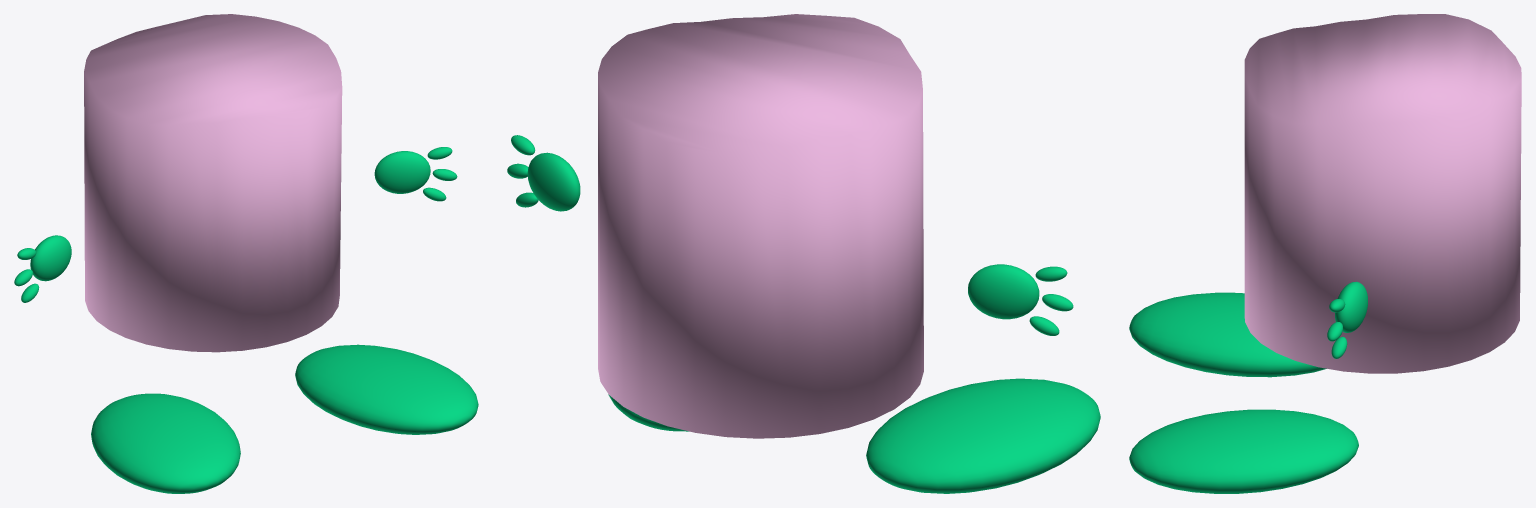
The model's file is spielerneu.fbx.
3 renders of one model, left to right at view 1: azimuth 30°, elevation 25°; view 2: azimuth 150°, elevation 25°; view 3: azimuth 270°, elevation 25°, orthographic. The views are drawn at different scales.
Parts seen in each view (by area): view 1: Sphere_007; view 2: Sphere_007; view 3: Sphere_007.
Part boxes in pixels (left/top/right/bottom): Sphere_007: left=14, top=14, right=478, bottom=493; Sphere_007: left=507, top=14, right=1100, bottom=493; Sphere_007: left=1129, top=14, right=1521, bottom=493.
Size of the model in its own units: 4 by 2.82 by 2.84.
